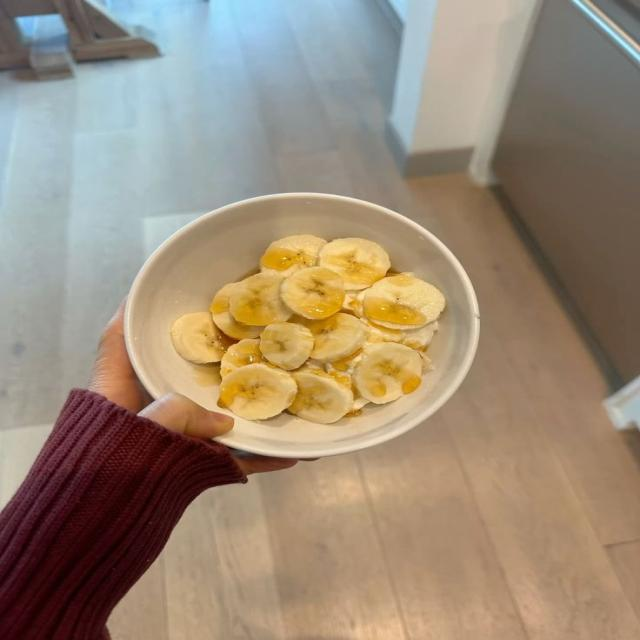banana slice: (219, 363, 297, 420), (364, 275, 445, 329), (353, 343, 422, 403), (318, 238, 390, 289), (288, 372, 353, 424), (281, 267, 345, 319), (229, 273, 291, 326), (210, 283, 263, 339), (171, 312, 228, 364), (307, 313, 367, 362), (260, 235, 326, 275), (260, 323, 313, 369), (363, 320, 438, 350), (220, 339, 262, 377), (402, 321, 438, 350), (342, 290, 366, 318)
